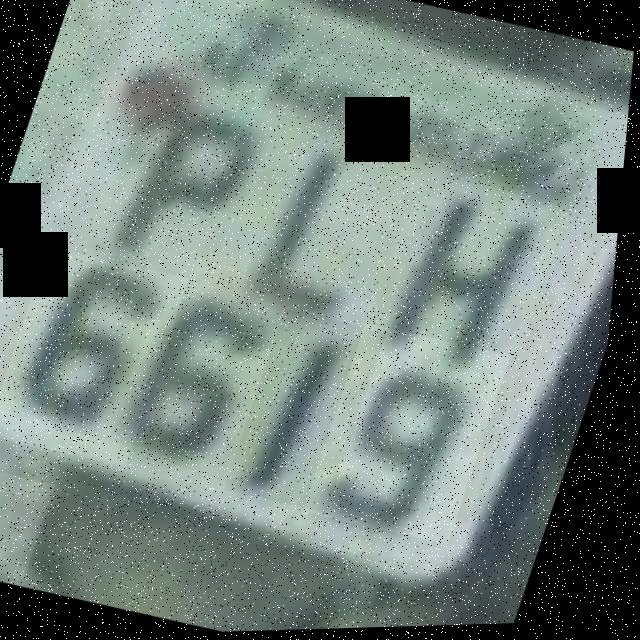1: (231, 309, 395, 517)
3: (0, 455, 65, 580)
6: (96, 277, 313, 502), (0, 244, 196, 471)
9: (309, 322, 520, 550)
H: (372, 163, 562, 364)
P: (81, 93, 269, 301)
